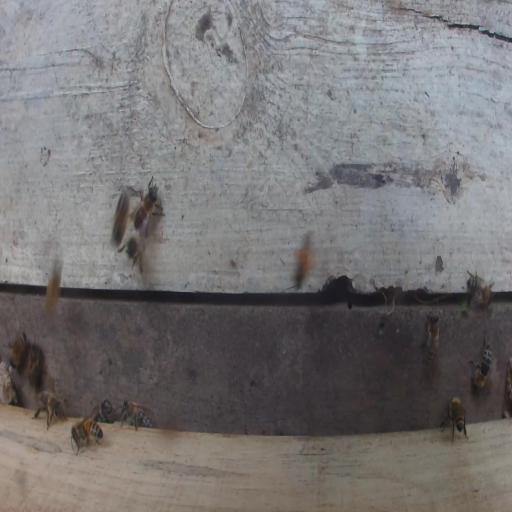bee: (131, 175, 165, 236), (70, 403, 105, 460), (32, 376, 68, 430), (291, 227, 316, 293), (467, 333, 491, 389), (441, 395, 469, 442), (466, 268, 495, 311), (118, 399, 155, 431), (422, 310, 440, 366), (118, 236, 143, 274), (9, 324, 28, 371), (29, 341, 41, 387)
